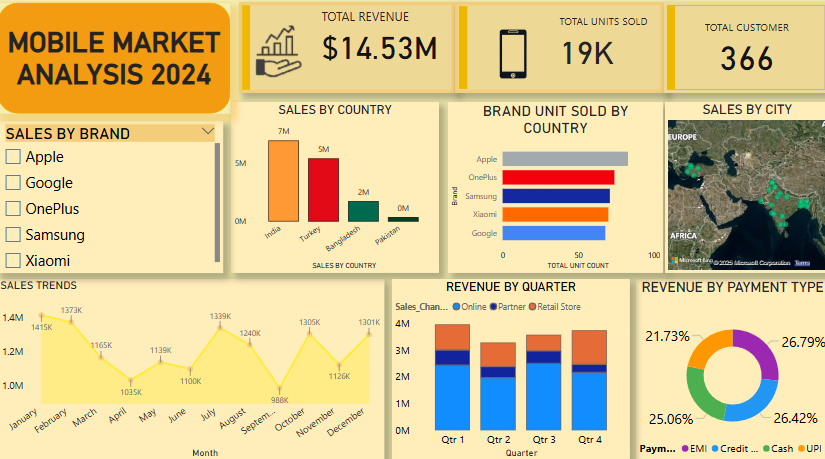

What the dashboard file says about the page in this screenshot:
{"tool":"powerbi","page":{"name":"Page 1","canvas":[1280,720],"ordinal":0},"visuals":[{"type":"areaChart","title":"SALES TRENDS","fields":{"Y":["Sum(Table1.Total_Revenue)"],"Category":["Table1.End of Month.Variation.Date Hierarchy.Month"]},"box":[0,439,595.6,281],"z":0},{"type":"cardVisual","fields":{"Data":["Sum(Table1.Total_Revenue)"]},"box":[371.7,11.7,332.2,140.5],"z":1000},{"type":"cardVisual","fields":{"Data":["Sum(Table1.Units_Sold)"]},"box":[703.9,11.7,322,140.5],"z":2000},{"type":"columnChart","title":"SALES BY COUNTRY","fields":{"Category":["Table1.Country"],"Y":["Sum(Table1.Total_Revenue)"]},"box":[360,165.7,320,262.9],"z":3000},{"type":"slicer","fields":{"Values":["Table1.Brand"]},"box":[0,195.4,347.7,233.8],"z":4000},{"type":"donutChart","title":" REVENUE BY PAYMENT TYPE ","fields":{"Y":["Sum(Table1.Total_Revenue)"],"Category":["Table1.Payment_Type"]},"box":[983.4,439,297.1,281],"z":5000},{"type":"barChart","title":"BRAND UNIT SOLD BY COUNTRY","fields":{"Category":["Table1.Brand"],"Y":["CountNonNull(Table1.Country)"]},"box":[694.3,165.7,331.4,262.9],"z":6000},{"type":"cardVisual","fields":{"Data":["CountNonNull(Table1.Customer_Age)"]},"box":[1026.2,12.3,253.8,140],"z":7000},{"type":"shape","box":[0,11.7,360,172.7],"z":8000},{"type":"columnChart","title":"REVENUE BY QUARTER","fields":{"Category":["Table1.End of Month.Variation.Date Hierarchy.Quarter"],"Y":["Sum(Table1.Total_Revenue)"],"Series":["Table1.Sales_Channel"]},"box":[607.3,439,365.9,281],"z":9000},{"type":"map","title":"SALES BY CITY","fields":{"Category":["Table1.City"]},"box":[1027,166,253,263],"z":10000}]}

Visuals, with their boxes in screenshot pixels (x1, y1, x2, y2), scaled from the page's 1280x720 canvas onto the 825x459 screenshot:
"SALES TRENDS" areaChart: (0, 280, 384, 458)
cardVisual - Sum(Table1.Total_Revenue): (240, 7, 454, 97)
cardVisual - Sum(Table1.Units_Sold): (454, 7, 661, 97)
"SALES BY COUNTRY" columnChart: (232, 106, 438, 273)
slicer - Table1.Brand: (0, 125, 224, 274)
" REVENUE BY PAYMENT TYPE " donutChart: (634, 280, 824, 458)
"BRAND UNIT SOLD BY COUNTRY" barChart: (447, 106, 661, 273)
cardVisual - CountNonNull(Table1.Customer_Age): (661, 8, 824, 97)
shape: (0, 7, 232, 118)
"REVENUE BY QUARTER" columnChart: (391, 280, 627, 458)
"SALES BY CITY" map: (662, 106, 824, 273)
